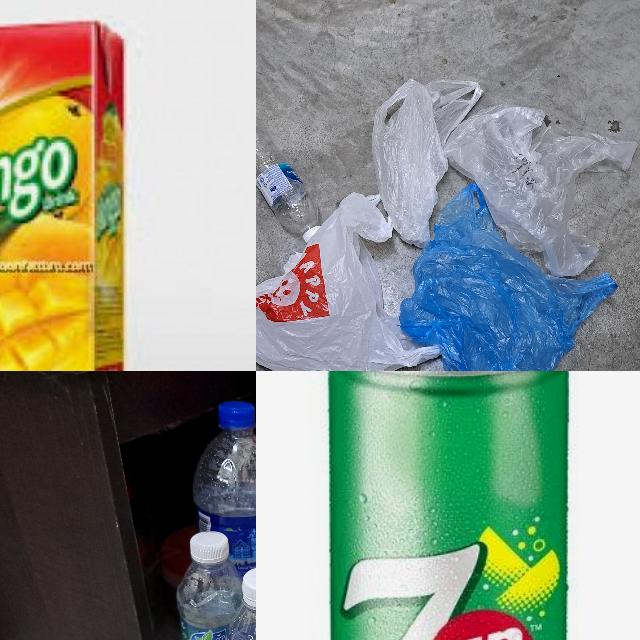caixinha: (0, 16, 121, 371)
garrafa plástica: (193, 424, 256, 586), (256, 117, 316, 232), (174, 560, 240, 640)
lata: (325, 371, 568, 640)
sacola plástica: (406, 191, 608, 371), (256, 196, 436, 371), (460, 101, 638, 277), (372, 71, 476, 243)
tampa plástica: (190, 532, 230, 562), (218, 401, 256, 425), (240, 567, 256, 603), (300, 222, 320, 240)
